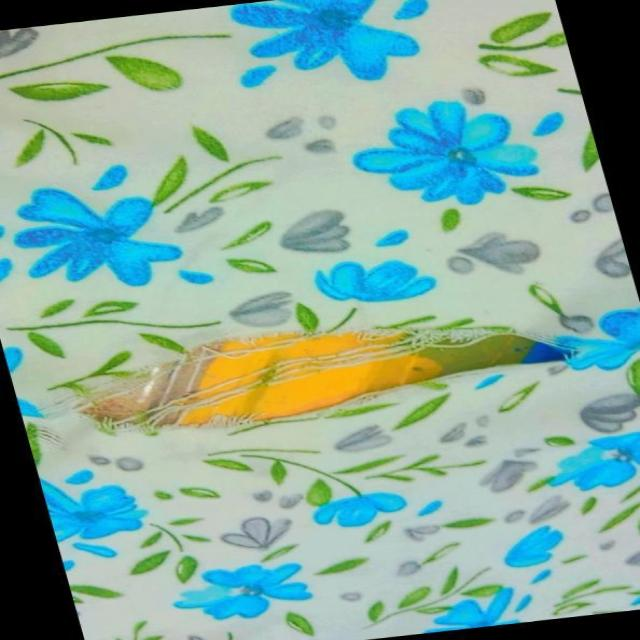cut: (30, 284, 608, 456)
